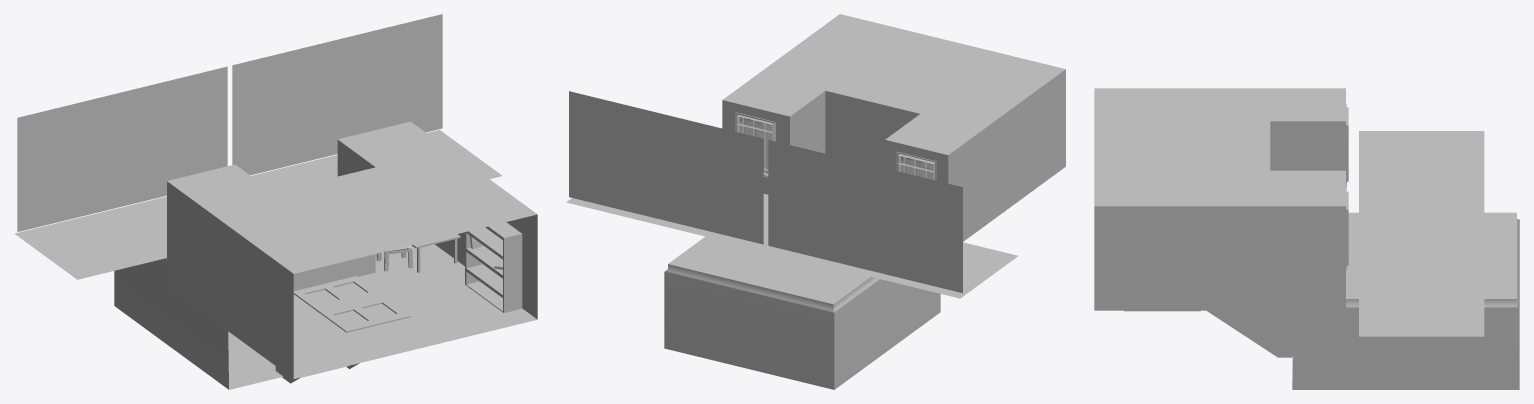
Rendered from InteriorIrlandes.fbx.
The picture shows the model from 3 angles, left to right: view 1: azimuth 30°, elevation 25°; view 2: azimuth 150°, elevation 25°; view 3: azimuth 270°, elevation 25°; orthographic projection. The views are drawn at different scales.
Parts seen in each view (by area): view 1: Habitacion1, pPlane1, pPlane2, pCube16, pPlane4, Estanteria1, pCube15, pPlane3; view 2: Habitacion1, pCube16, pPlane1, pPlane2, pPlane4, pPlane3, Sucidad2; view 3: Habitacion1, pCube16, pPlane3, pPlane4.
Boxes of the visible parts, x1=… form: Habitacion1: x1=167, y1=121, x2=537, y2=383; pPlane1: x1=17, y1=66, x2=227, y2=231; pPlane2: x1=232, y1=14, x2=442, y2=175; pCube16: x1=114, y1=258, x2=282, y2=389; pPlane4: x1=15, y1=196, x2=166, y2=279; Estanteria1: x1=465, y1=222, x2=522, y2=312; pCube15: x1=293, y1=276, x2=410, y2=332; pPlane3: x1=251, y1=130, x2=502, y2=192; Habitacion1: x1=722, y1=14, x2=1065, y2=241; pCube16: x1=664, y1=236, x2=940, y2=389; pPlane1: x1=768, y1=140, x2=962, y2=292; pPlane2: x1=569, y1=91, x2=763, y2=244; pPlane4: x1=765, y1=242, x2=1018, y2=298; pPlane3: x1=566, y1=194, x2=768, y2=249; Sucidad2: x1=740, y1=117, x2=775, y2=173; Habitacion1: x1=1094, y1=88, x2=1345, y2=357; pCube16: x1=1292, y1=212, x2=1519, y2=389; pPlane3: x1=1359, y1=235, x2=1484, y2=336; pPlane4: x1=1359, y1=131, x2=1484, y2=232.
Size of the model in its own units: 21.83 by 11.47 by 19.07.
